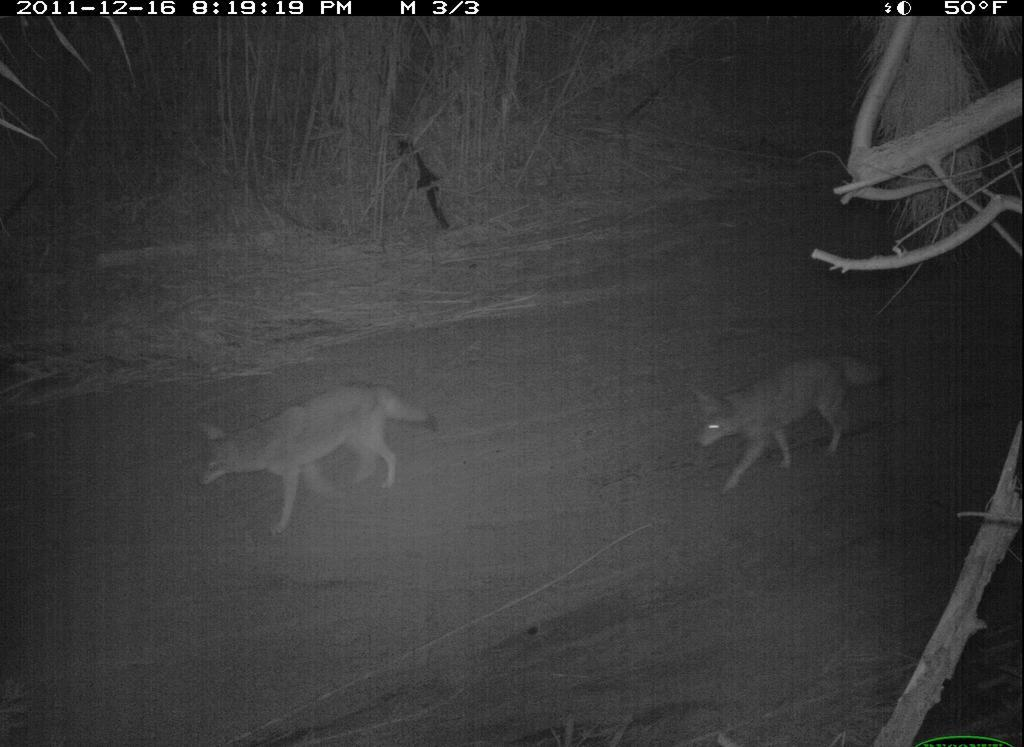coyote: (186, 370, 443, 542), (690, 353, 898, 497)
